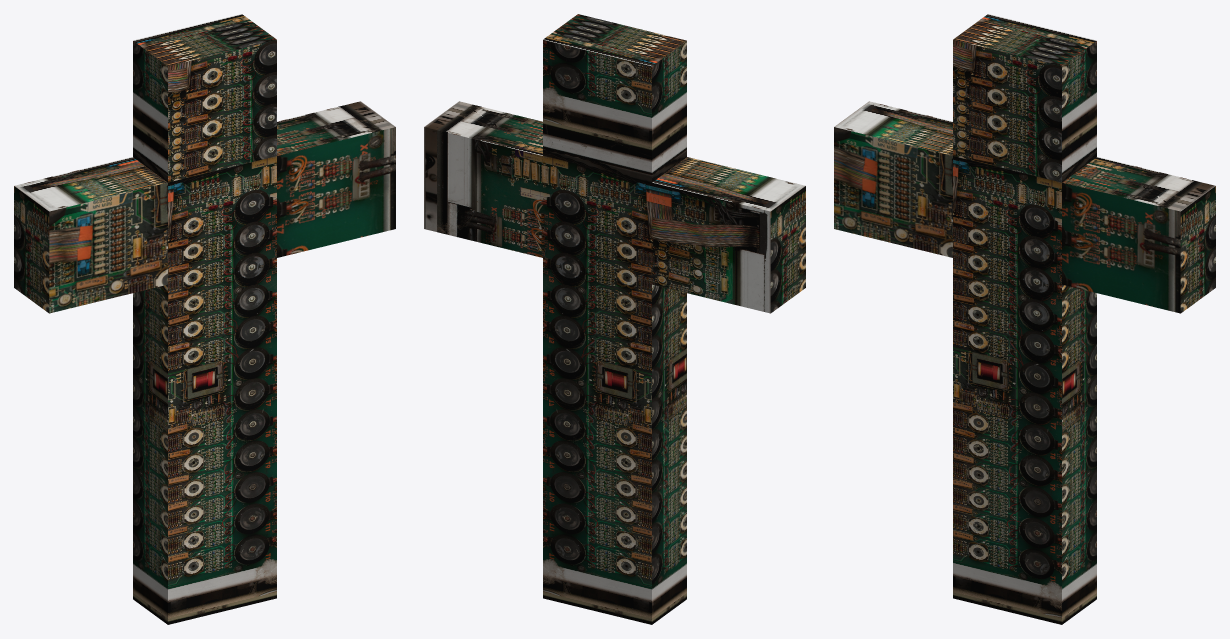
Rendered from Cross.fbx.
The picture shows the model from 3 angles, left to right: view 1: azimuth 30°, elevation 25°; view 2: azimuth 150°, elevation 25°; view 3: azimuth 330°, elevation 25°; orthographic projection.
Visible parts, largest first — view 1: Cube; view 2: Cube; view 3: Cube.
Boxes of the visible parts, left/top/right/bottom form: Cube: left=14, top=14, right=395, bottom=624; Cube: left=424, top=14, right=805, bottom=624; Cube: left=834, top=14, right=1215, bottom=624.
Bounding box in the file's own units: 635 × 978 × 112.
